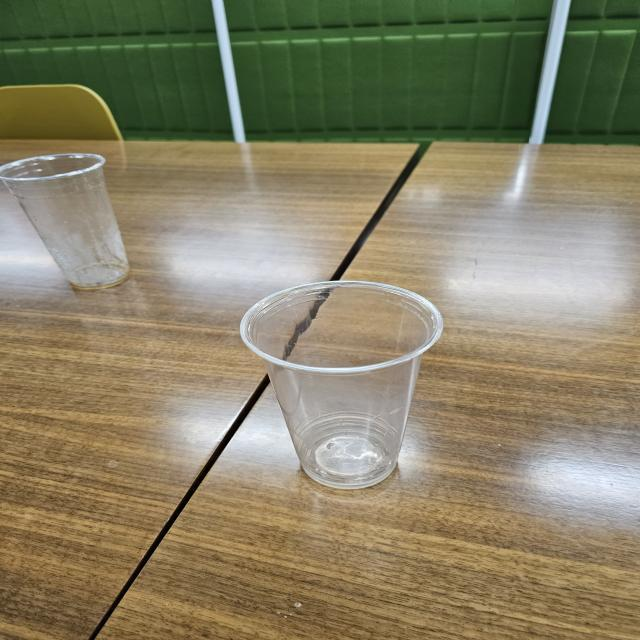cup: (235, 277, 450, 493), (4, 149, 142, 297)
